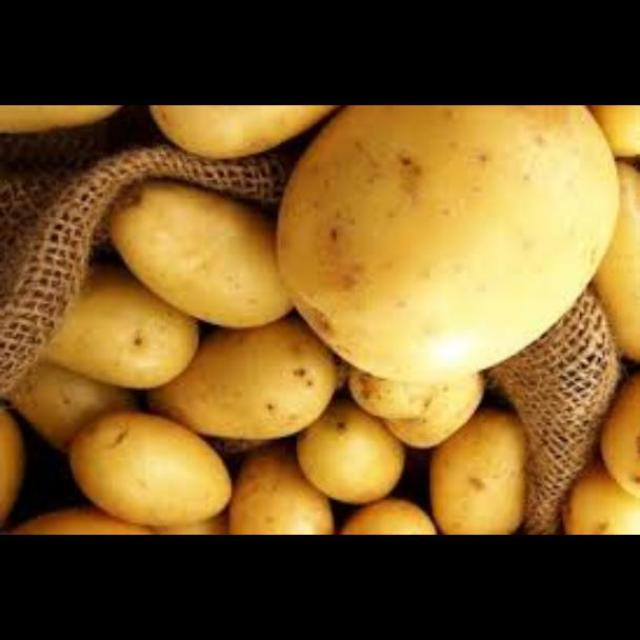Potato: (278, 107, 640, 376), (109, 179, 344, 349), (51, 413, 250, 532), (147, 320, 339, 440), (31, 272, 211, 392), (136, 106, 368, 180), (428, 407, 548, 536), (338, 366, 500, 454), (287, 416, 414, 506), (580, 365, 639, 498), (232, 459, 324, 536), (550, 466, 639, 536), (322, 492, 450, 536)
